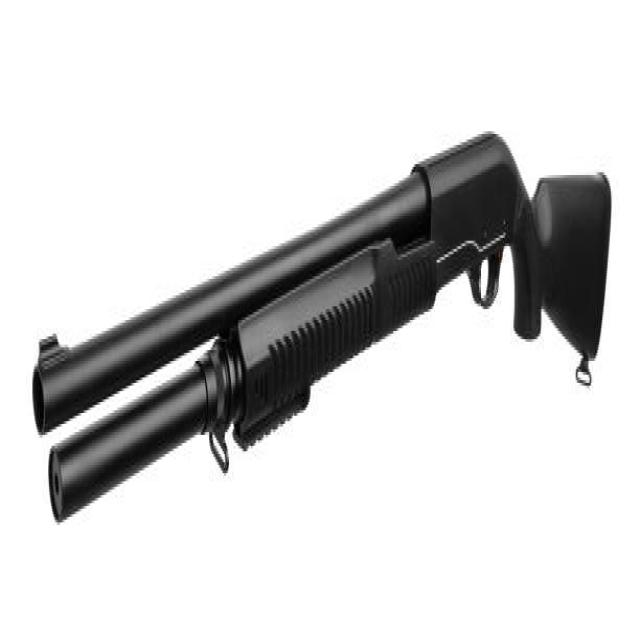rifle: (31, 123, 619, 532)
